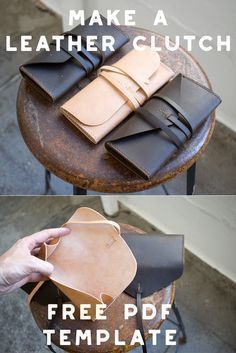cuero: (19, 13, 223, 321)
